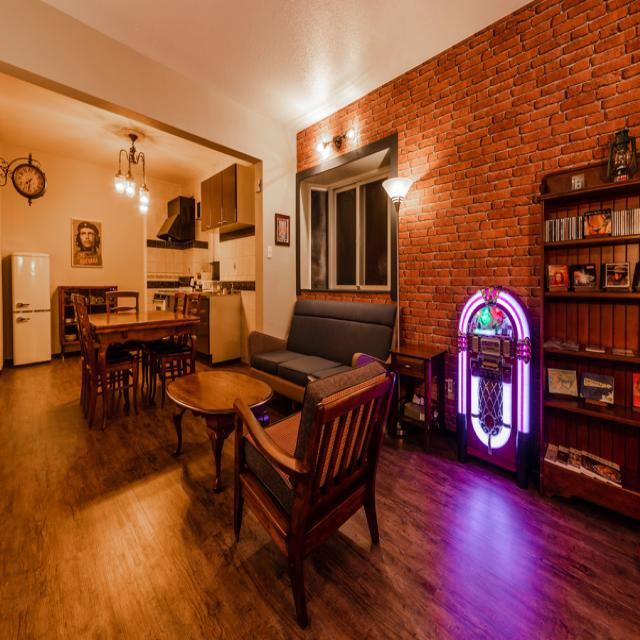vintage chair: (225, 347, 384, 615), (68, 290, 139, 419)
vintage desk: (161, 370, 271, 489), (85, 303, 205, 378)
vintage shelf: (535, 164, 640, 517)
vintage sofa: (258, 300, 392, 388)
